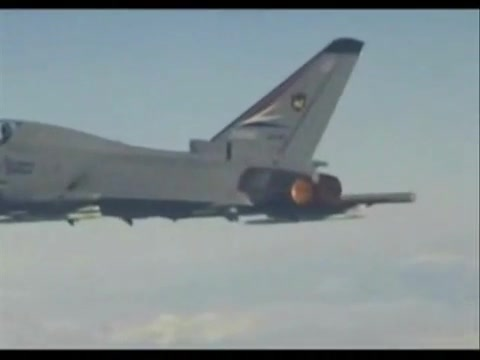aeroplane: (2, 38, 419, 228)
